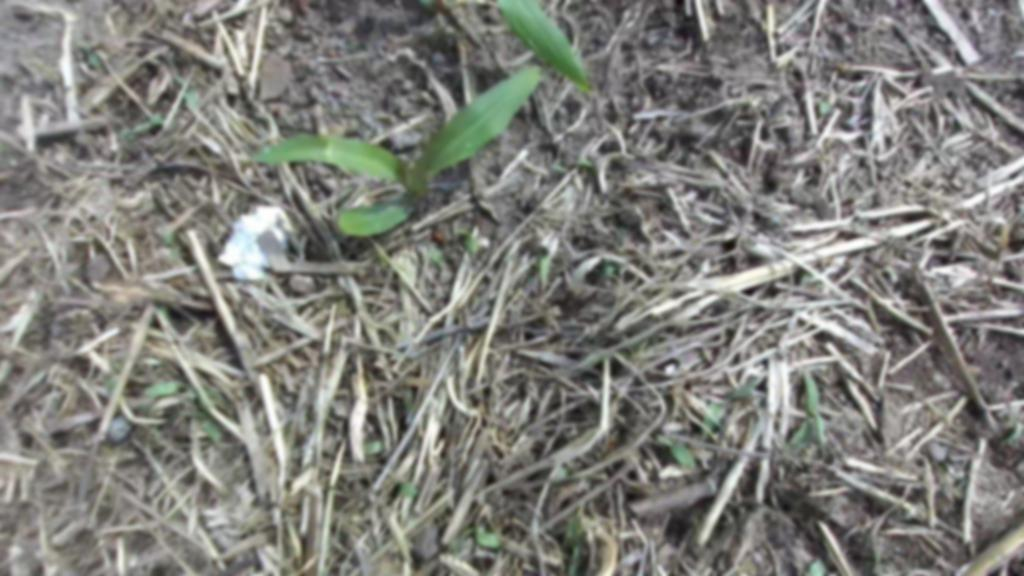BroWeed: (799, 365, 831, 455), (178, 397, 228, 450), (444, 519, 504, 562), (650, 432, 704, 472), (139, 59, 178, 111), (163, 72, 205, 109), (119, 109, 165, 142), (723, 373, 768, 406), (785, 417, 819, 459), (75, 36, 108, 76), (566, 505, 583, 576), (200, 384, 237, 416), (452, 224, 483, 257), (699, 400, 723, 439), (993, 216, 1016, 255), (144, 379, 187, 399), (421, 243, 452, 269), (593, 258, 619, 282), (160, 231, 181, 257), (361, 437, 387, 458), (550, 464, 571, 489), (398, 387, 417, 414), (424, 26, 454, 41), (104, 371, 119, 395), (398, 480, 418, 497), (809, 558, 827, 576), (817, 99, 836, 116), (760, 215, 781, 230), (194, 66, 211, 83), (539, 257, 550, 281), (1001, 419, 1024, 430), (616, 227, 628, 248), (159, 303, 170, 321), (629, 338, 642, 353)
Maize: (238, 57, 571, 268)
